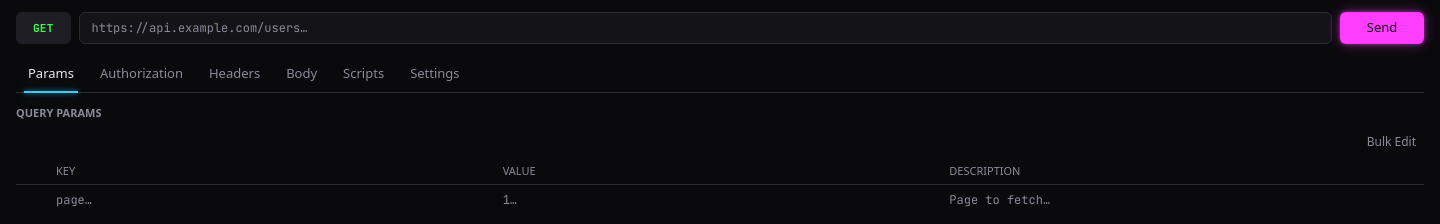
Test case: RequestBuilder › pastes text that is not a cURL command into the URL as it is
Click the field named "Request URL": click(200, 28) [92,20,308,36]
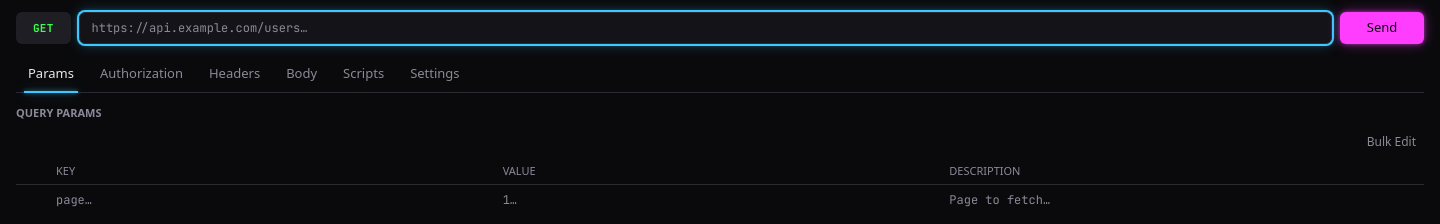
Type keys "https://api.test/curl me"
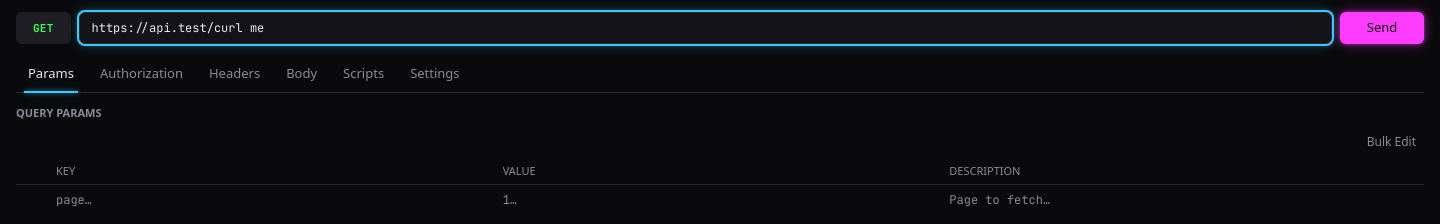
Expected: the field named "Request URL" reads "https://api.test/curl me", [92,20,1319,36]
